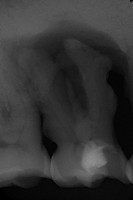Dental Caries: (0, 19, 130, 119)
